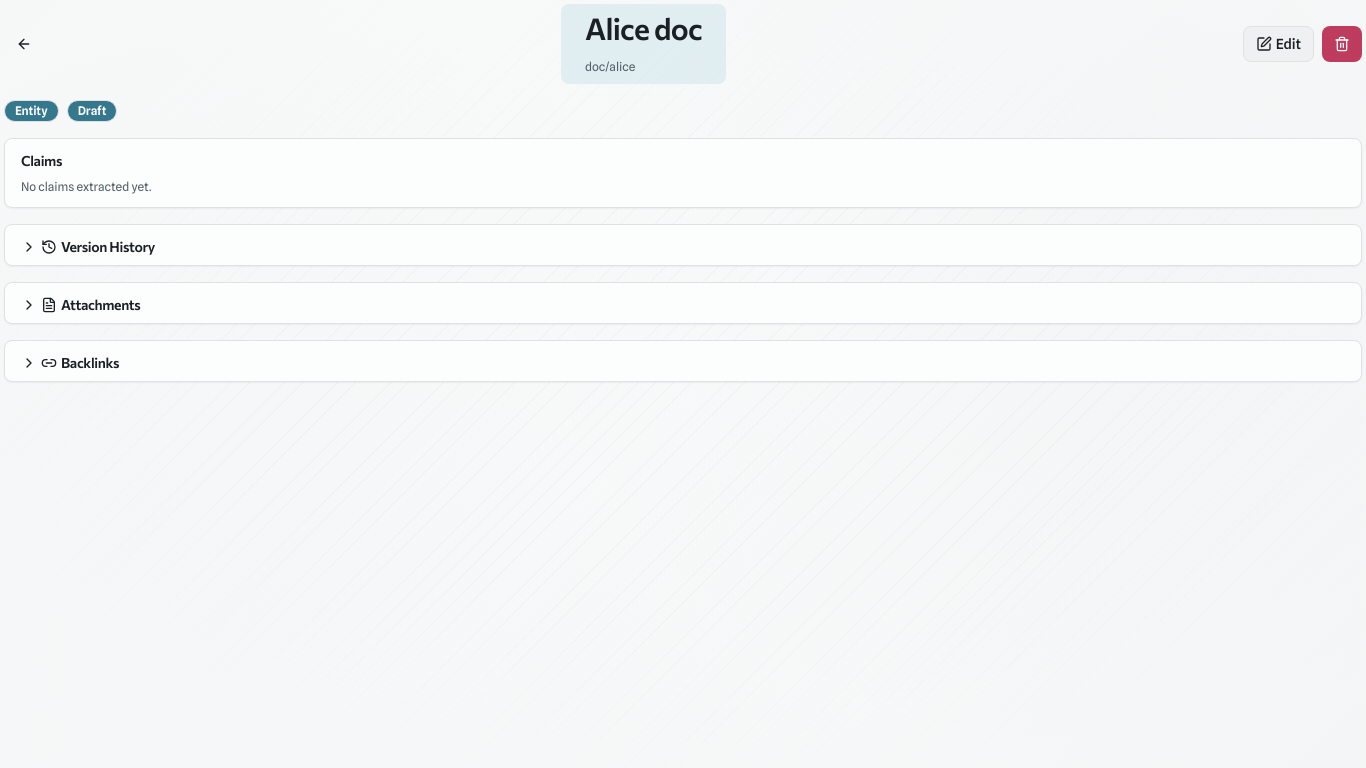
Scenario: issue515 ac40 › issue515-ac40 real backend payload shapes render in detail sections
This screenshot has width=1366, height=768.
Note: --- Version history: formatted date + identifiable version ---
Click the heading "Version History": (88, 246) top-left (21, 238), bottom-right (155, 255)
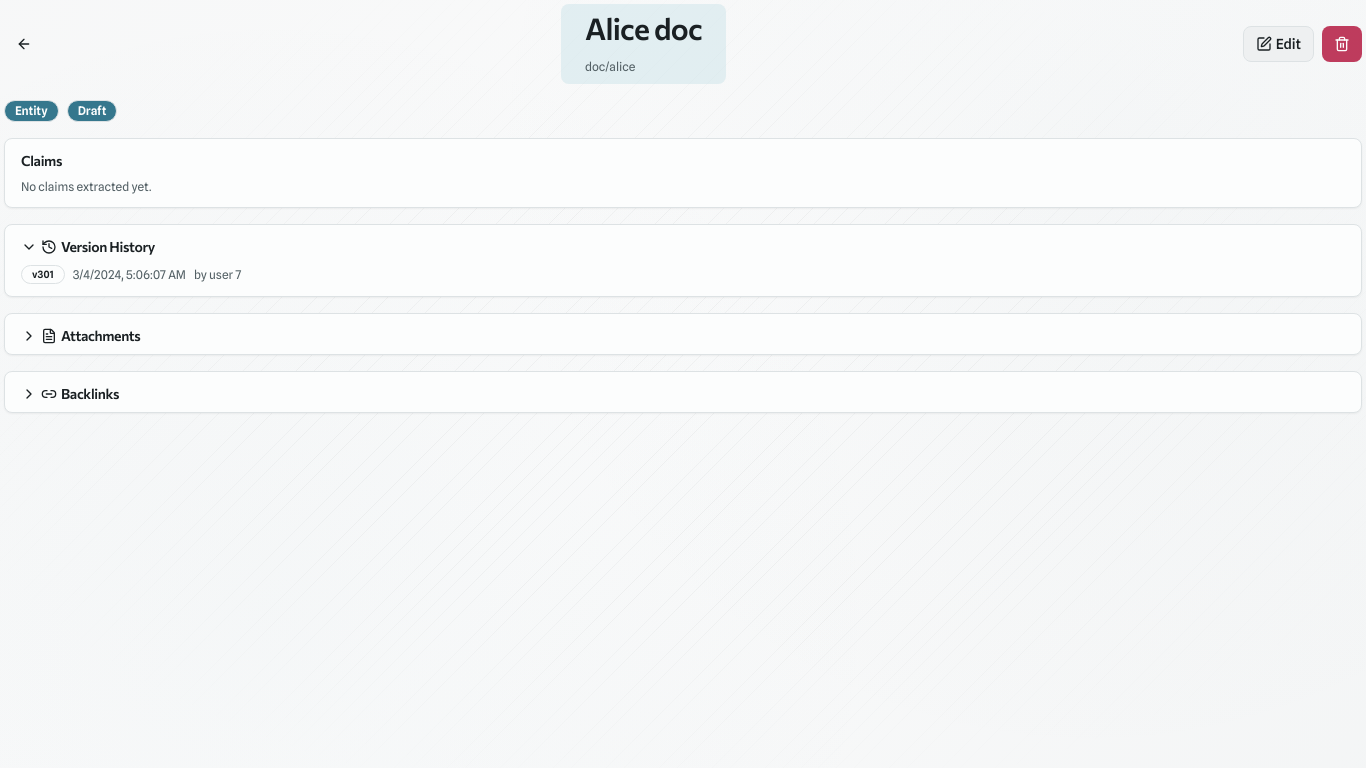
expect the text "3/4/2024, 5:06:07 AM" is shown: met, box top-left (73, 267), bottom-right (186, 283)
expect the text "v301" is shown: met, box top-left (21, 265), bottom-right (65, 284)
Note: --- Attachments: an identifying label (filename or file id) ---
Click the heading "Attachments": (81, 336) top-left (21, 327), bottom-right (140, 344)
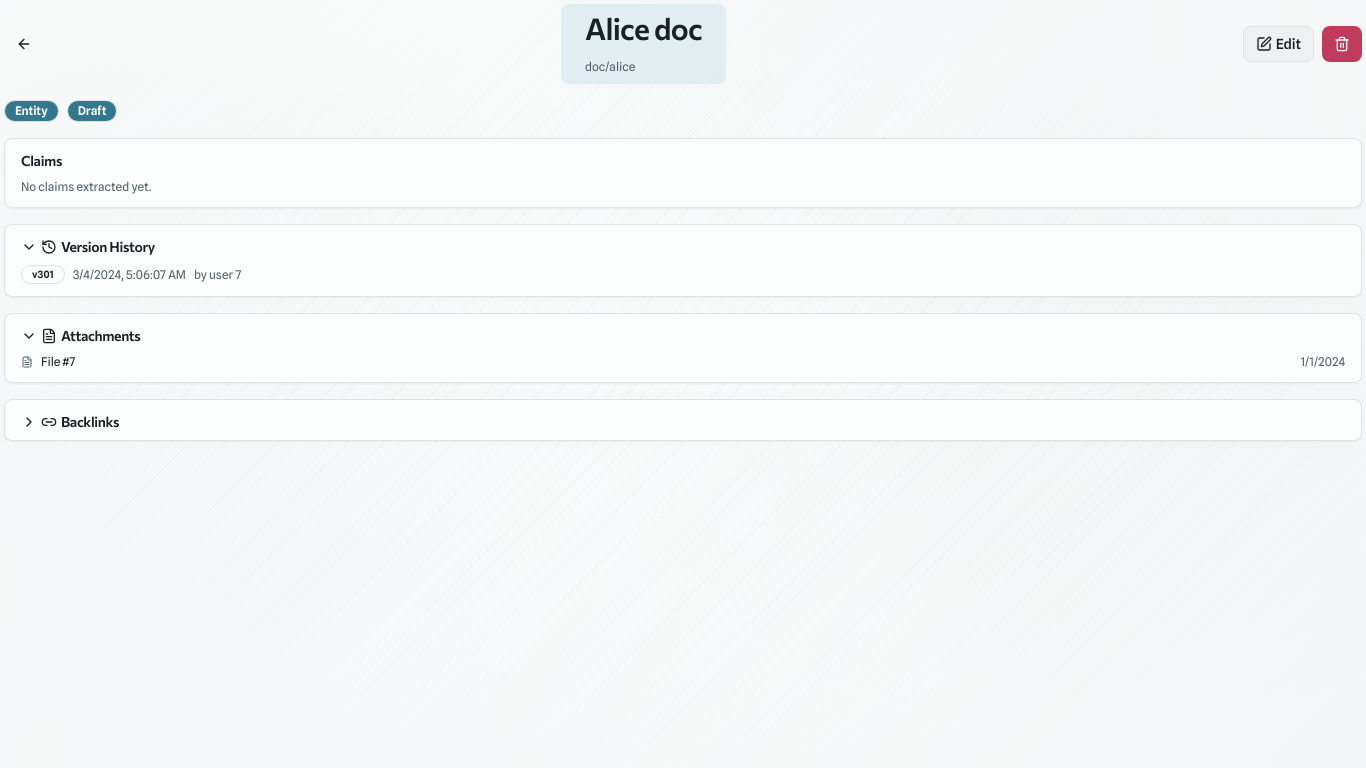
expect the text "File #7" is shown: met, box top-left (41, 354), bottom-right (75, 370)
Note: --- Backlinks: the source page title/slug ---
Click the heading "Backlinks": (70, 422) top-left (21, 413), bottom-right (119, 430)
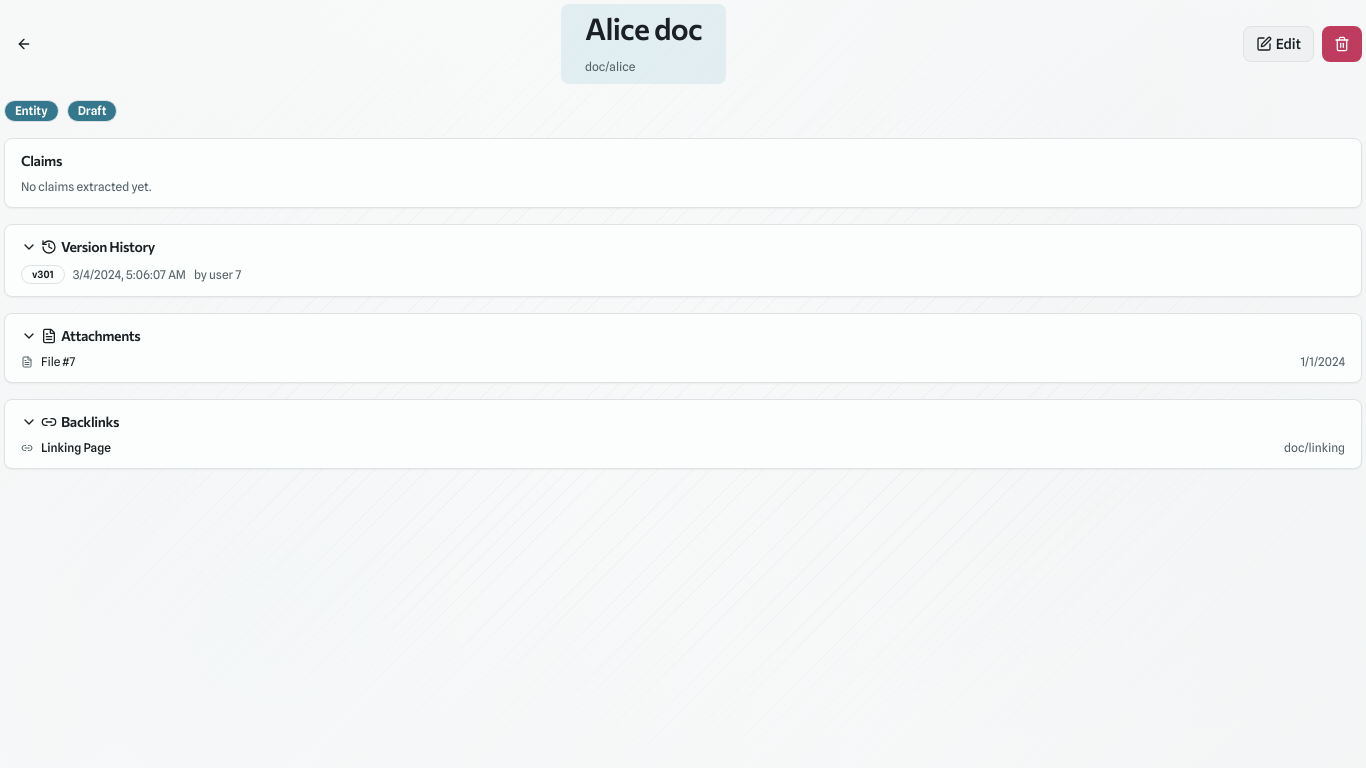
expect the text "Linking Page" is shown: met, box top-left (41, 440), bottom-right (111, 456)
